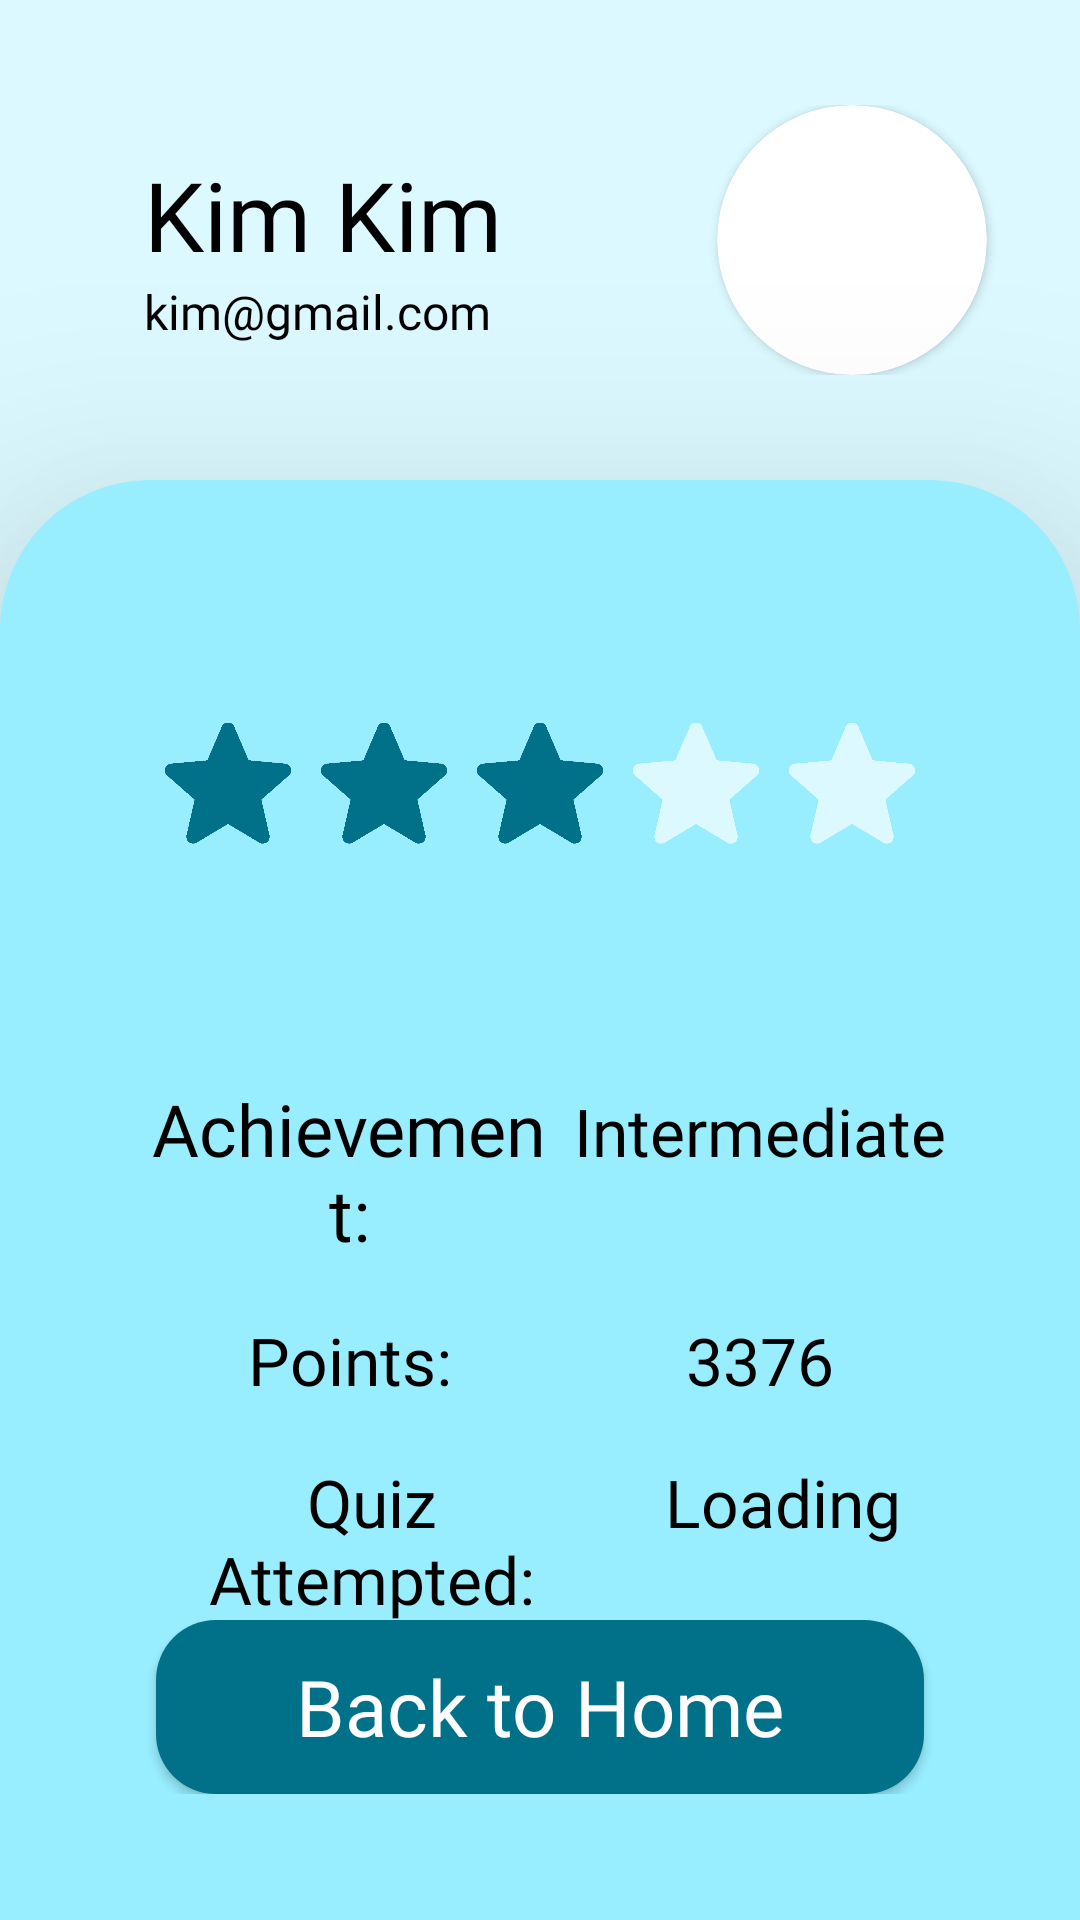

Icons on this 1080x1920 Android screen, each with its box as (x1, y1, x2, y2):
star: (165, 723, 291, 844), (321, 723, 447, 844), (477, 723, 603, 844), (633, 723, 759, 844), (789, 723, 915, 844)
